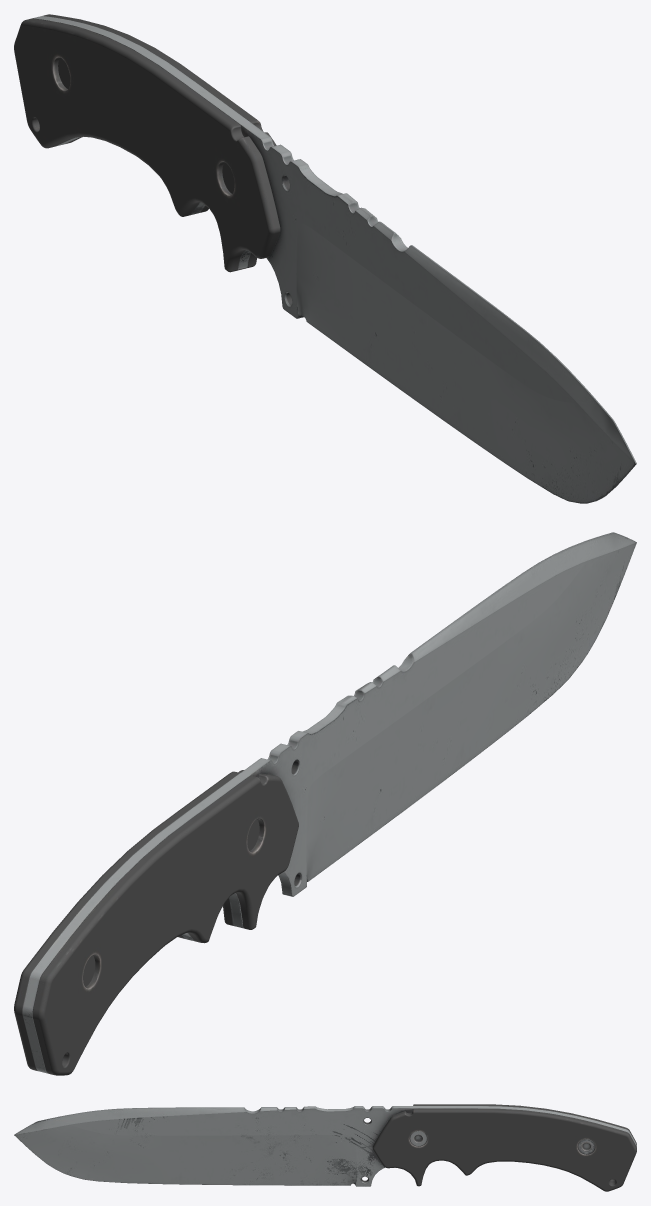
File: knife.glb
The picture shows the model from 3 angles, top to bottom: view 1: azimuth 30°, elevation 25°; view 2: azimuth 150°, elevation 25°; view 3: azimuth 270°, elevation 25°; orthographic projection. The views are drawn at different scales.
Visible parts, largest first — view 1: Sheet_43, Sheet_49; view 2: Sheet_43, Sheet_49; view 3: Sheet_43, Sheet_49.
Boxes of the visible parts, left/top/right/bottom form: Sheet_43: left=32, top=16, right=636, bottom=503; Sheet_49: left=14, top=14, right=280, bottom=272; Sheet_43: left=22, top=532, right=636, bottom=1073; Sheet_49: left=14, top=770, right=298, bottom=1075; Sheet_43: left=14, top=1106, right=636, bottom=1186; Sheet_49: left=373, top=1104, right=636, bottom=1191.
Bounding box in the file's own units: 0.2218 × 1.11 × 7.67.
Materials: 1 (1 with a texture image).
